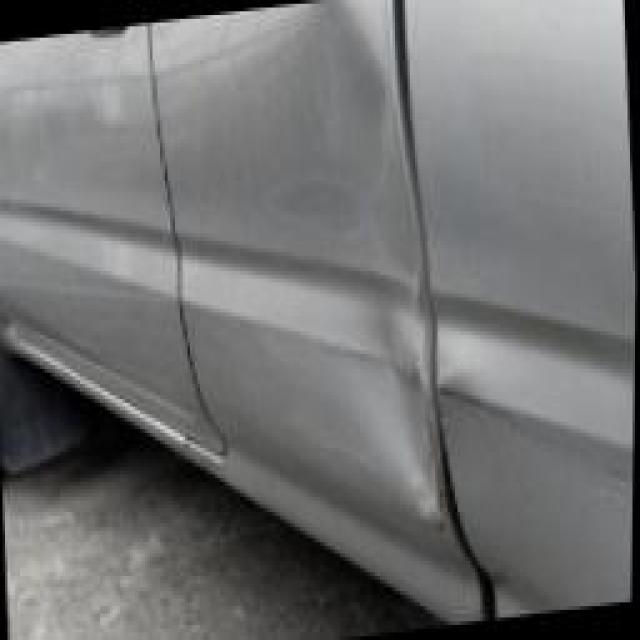Door: (148, 0, 495, 640)
